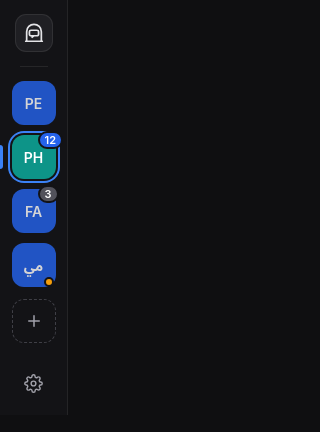
Test: Rail tooltips › hover shows it, leaving hides it
This screenshot has width=320, height=432.
Hover over the button with aria-label "محمد" at [34, 265], box 12,243 -> 56,287
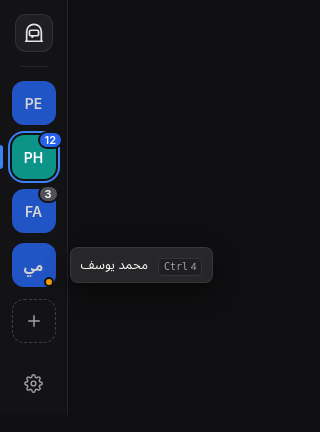
Check: the tooltip reads "محمد يوسف Ctrl 4", box 70,247 -> 213,283
Move the pointer off the button with aria-label "محمد", box 12,243 -> 56,287
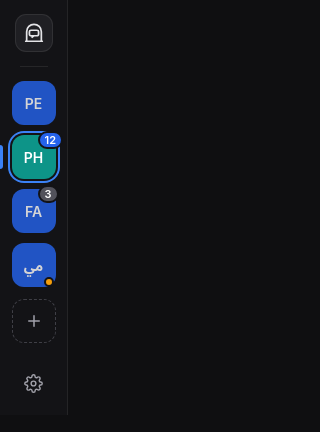
Check: the tooltip "محمد يوسف Ctrl 4" is gone
